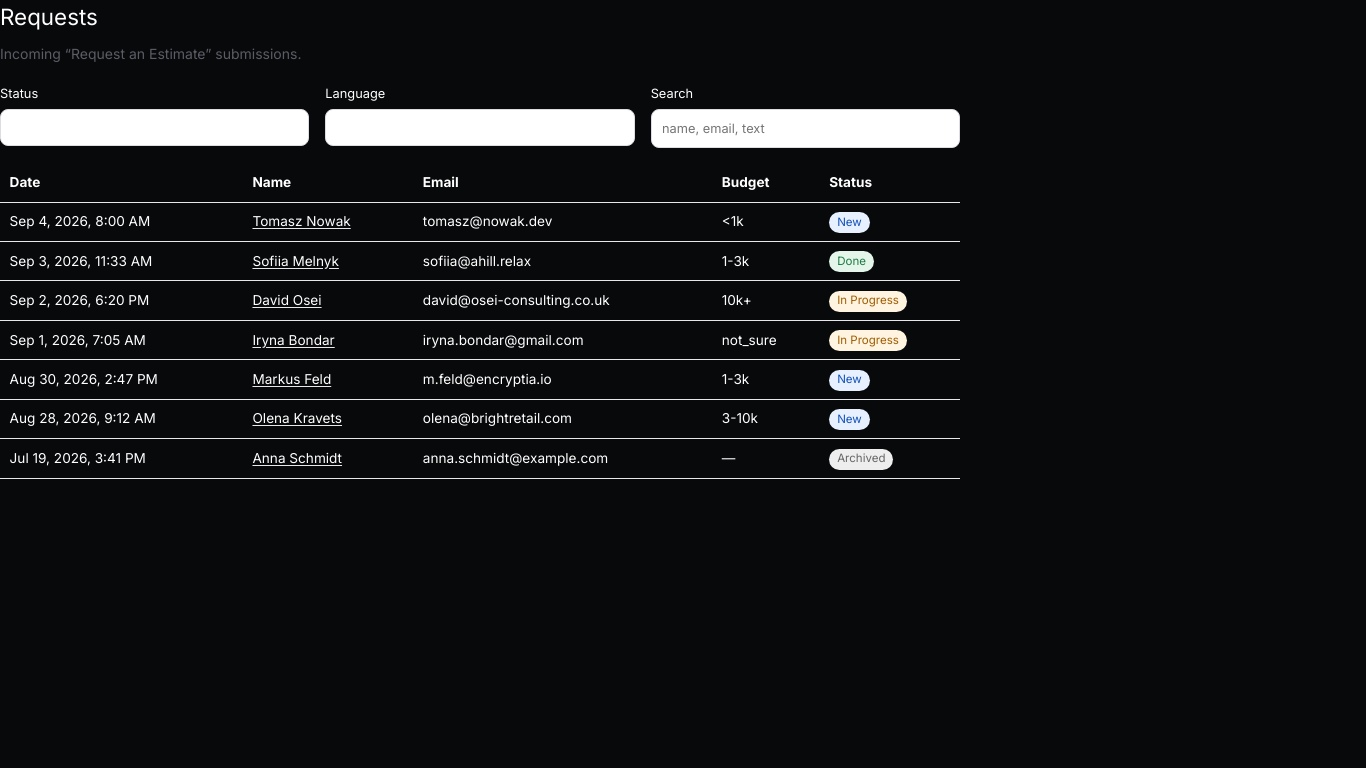
Test: RequestsPage › shows no notes for a request with none yet
Click the button "Olena Kravets" at (328, 419), box [252, 408, 404, 430]
(page scrolled)
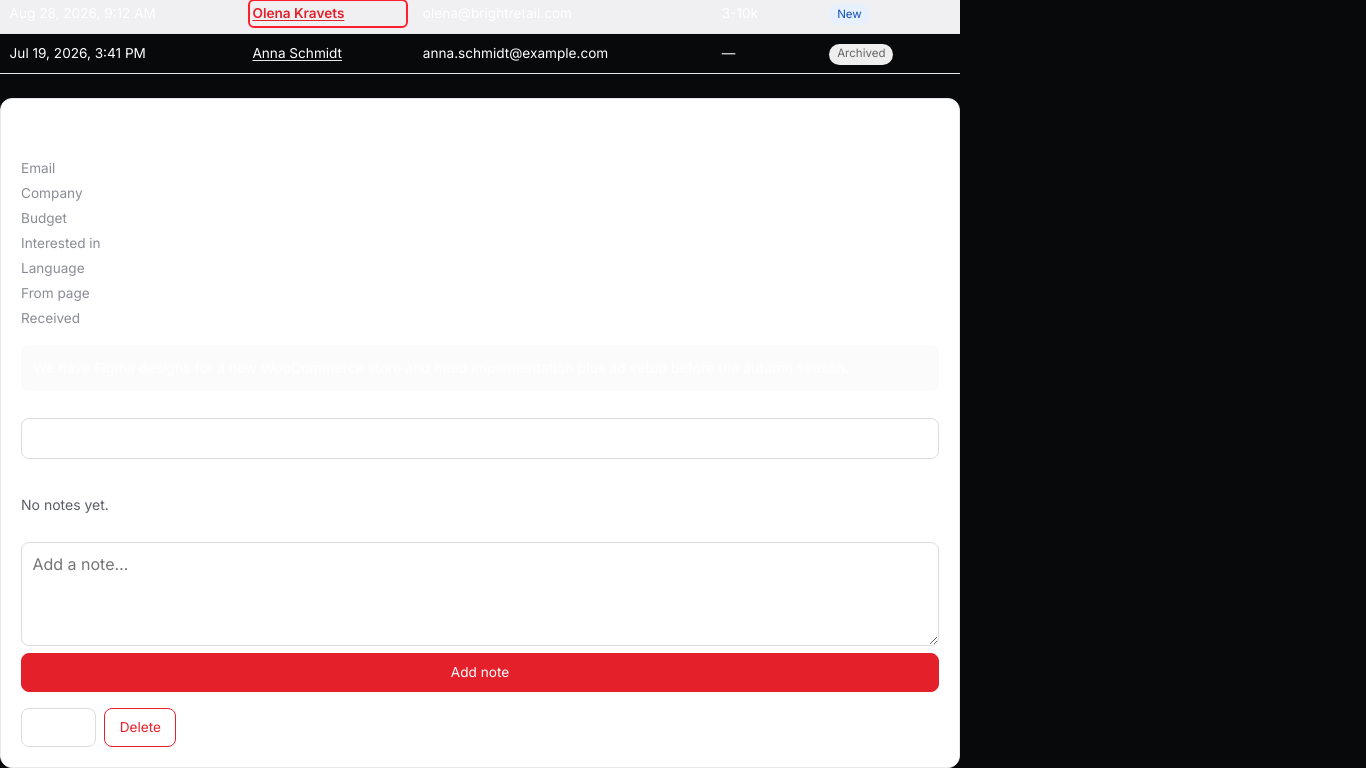
Result: the text "No notes yet." is shown at [21, 496, 109, 513]
